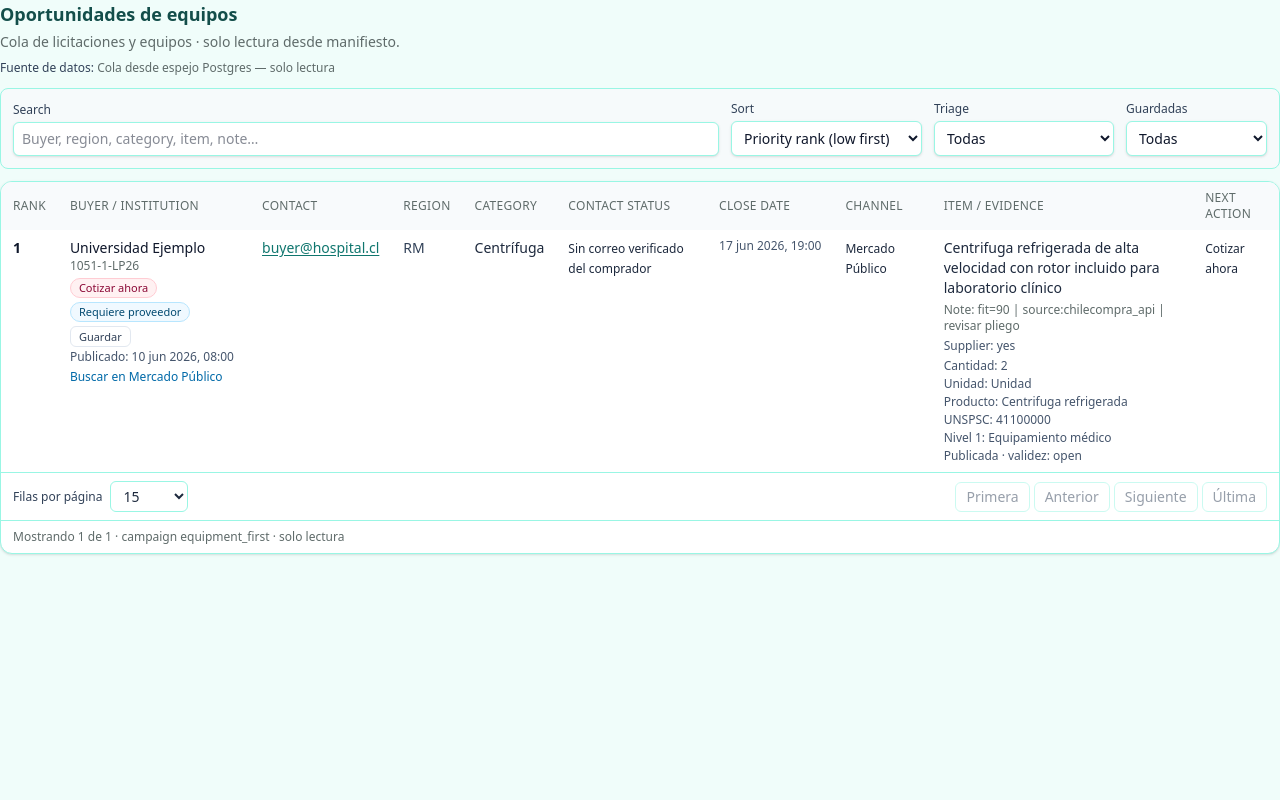
Scenario: EquipmentOpportunitiesTable › opens detail drawer when licitation code is clicked
Click the button with aria-label "Ver detalle de licitación 1051-1-LP26" at (154, 280), box [70,238,238,322]
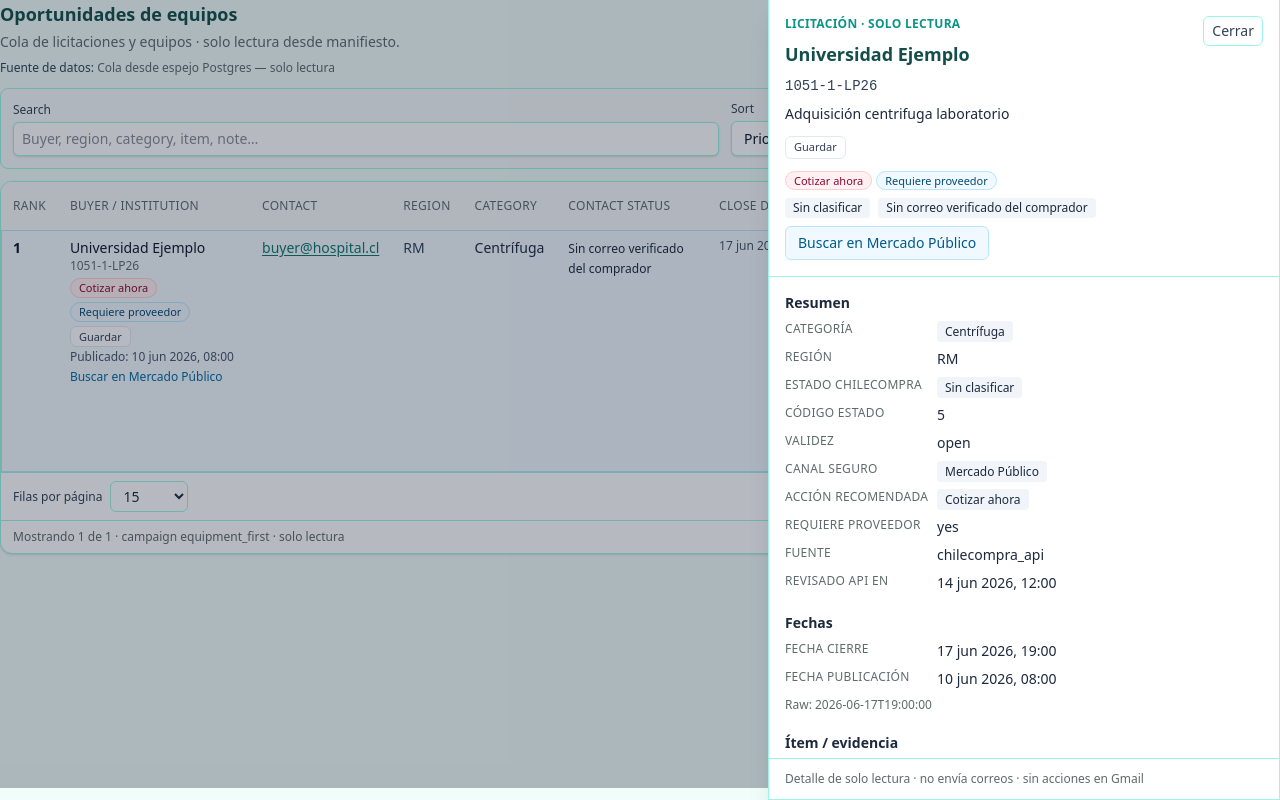
Check: the dialog with test id "equipment-opportunity-detail-drawer" is shown, box [768,0,1279,799]
